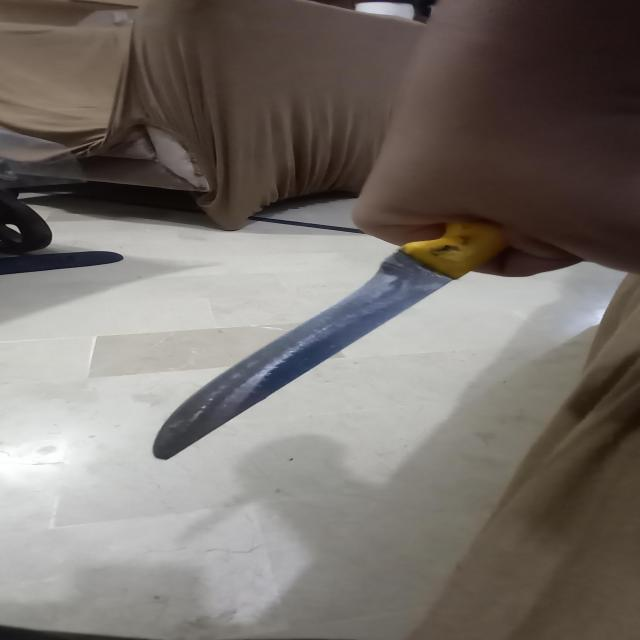Knife: (138, 208, 590, 465)
